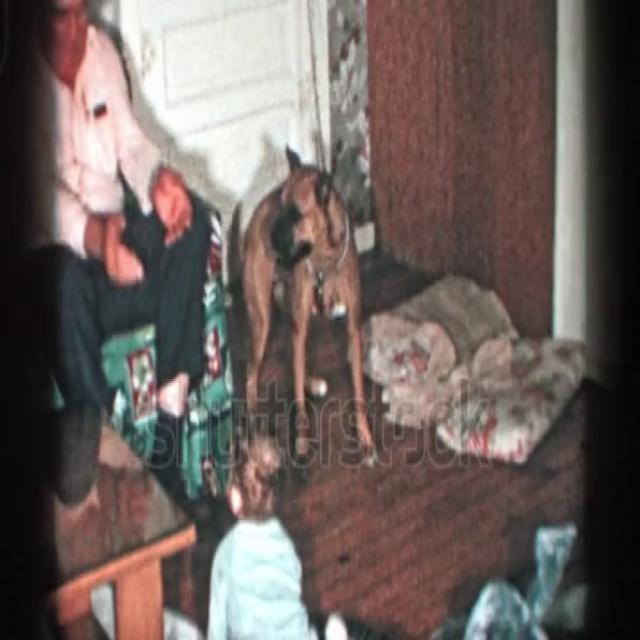normal_animals: (227, 141, 379, 474)
